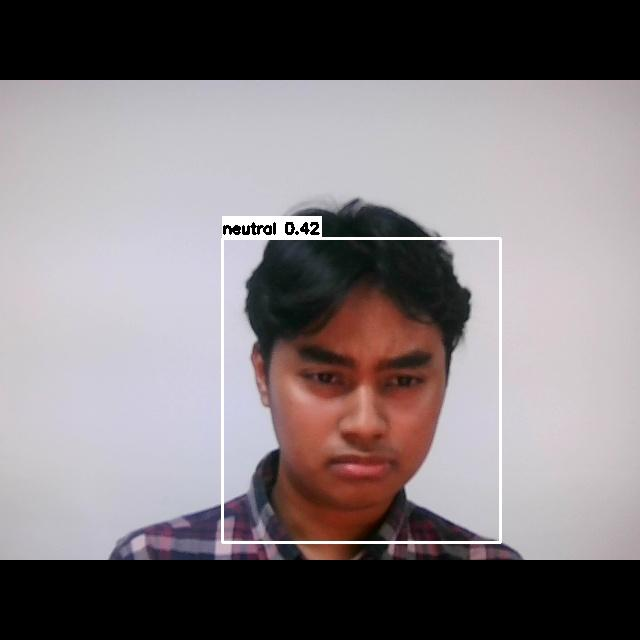Angry: (284, 330, 440, 491)
